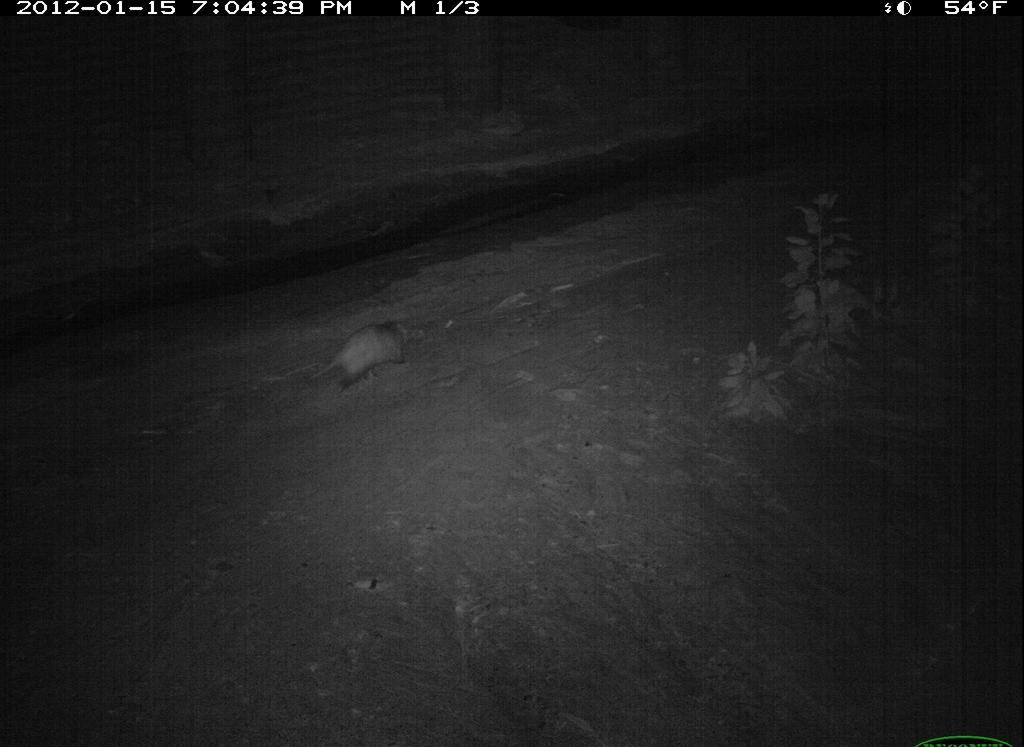opossum: (303, 312, 431, 417)
